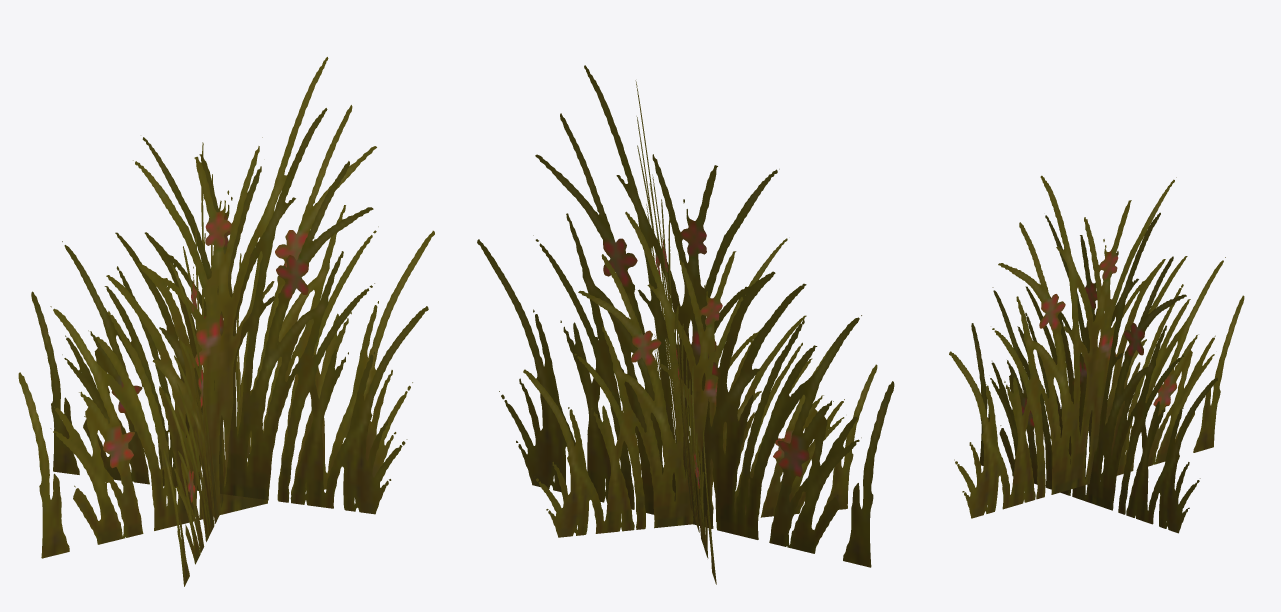
File: utility_grasses_yellow01.FBX
The picture shows the model from 3 angles, left to right: view 1: azimuth 30°, elevation 25°; view 2: azimuth 150°, elevation 25°; view 3: azimuth 270°, elevation 25°; orthographic projection. The views are drawn at different scales.
Visible parts, largest first — view 1: utility_grasses_yellow01; view 2: utility_grasses_yellow01; view 3: utility_grasses_yellow01.
Part boxes in pixels (x1,y1,x2,y2): utility_grasses_yellow01: (18,57,434,586); utility_grasses_yellow01: (477,65,894,584); utility_grasses_yellow01: (949,175,1244,533).
Bounding box in the file's own units: 125 × 127 × 96.68.
